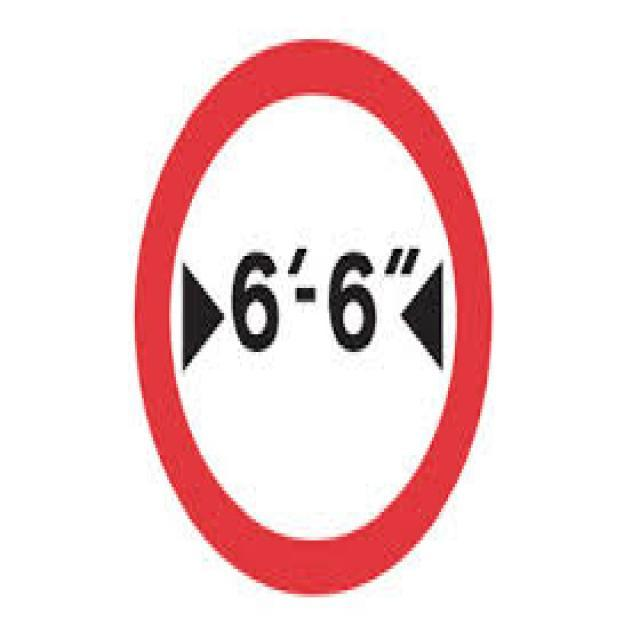width limit: (135, 36, 493, 593)
